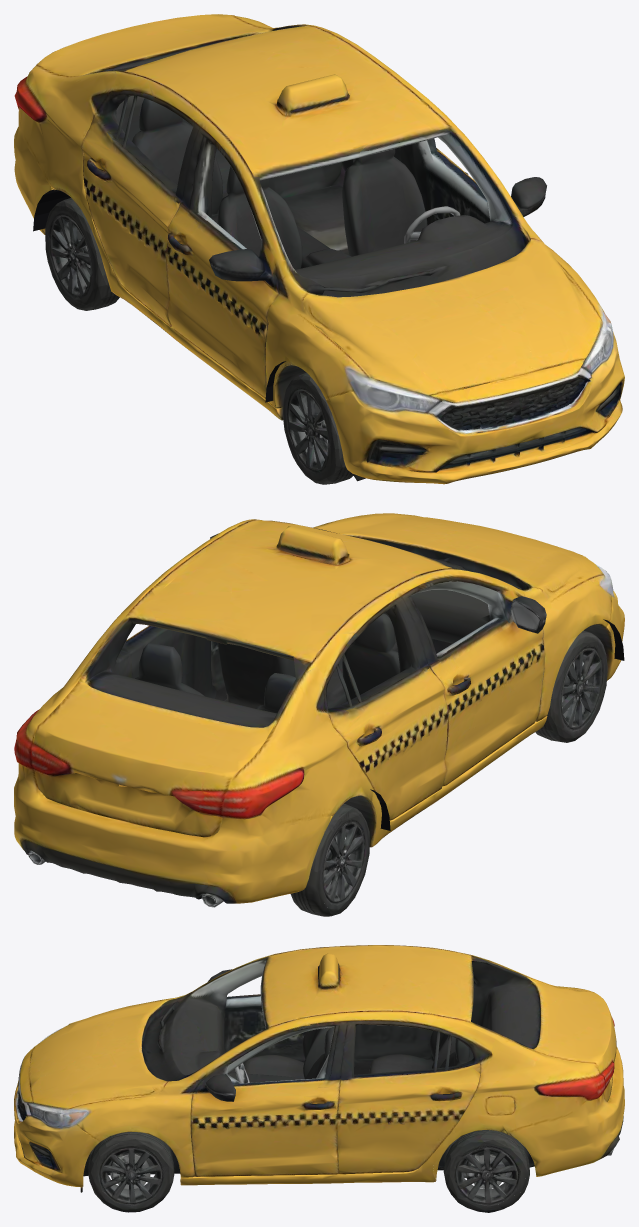
The model's file is car_taxi.glb.
The picture shows the model from 3 angles, top to bottom: view 1: azimuth 30°, elevation 25°; view 2: azimuth 150°, elevation 25°; view 3: azimuth 270°, elevation 25°; orthographic projection. The views are drawn at different scales.
Visible parts, largest first — view 1: body, wheel_FR, wheel_RR, liner_RR; view 2: body, wheel_FR, wheel_RR; view 3: body, wheel_FL, wheel_RL.
Boxes of the visible parts, x1=… form: body: x1=14, y1=14, x2=624, y2=484; wheel_FR: x1=277, y1=364, x2=353, y2=484; wheel_RR: x1=45, y1=198, x2=119, y2=310; liner_RR: x1=33, y1=189, x2=70, y2=231; body: x1=14, y1=513, x2=624, y2=916; wheel_FR: x1=535, y1=623, x2=612, y2=742; wheel_RR: x1=312, y1=795, x2=376, y2=914; body: x1=14, y1=945, x2=624, y2=1212; wheel_FL: x1=87, y1=1131, x2=174, y2=1212; wheel_RL: x1=433, y1=1130, x2=527, y2=1212.
Bounding box in the file's own units: 2.21 × 1.72 × 4.7.
2 materials, 1 textured.
